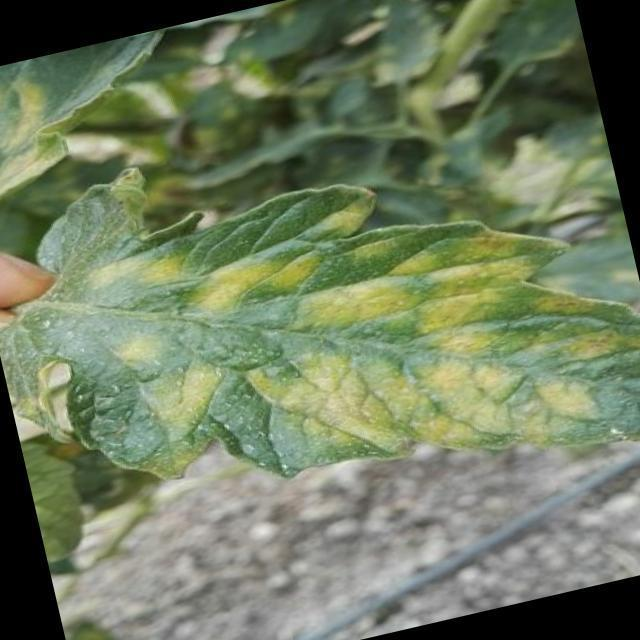Mosaic Virus: (47, 105, 640, 558)
